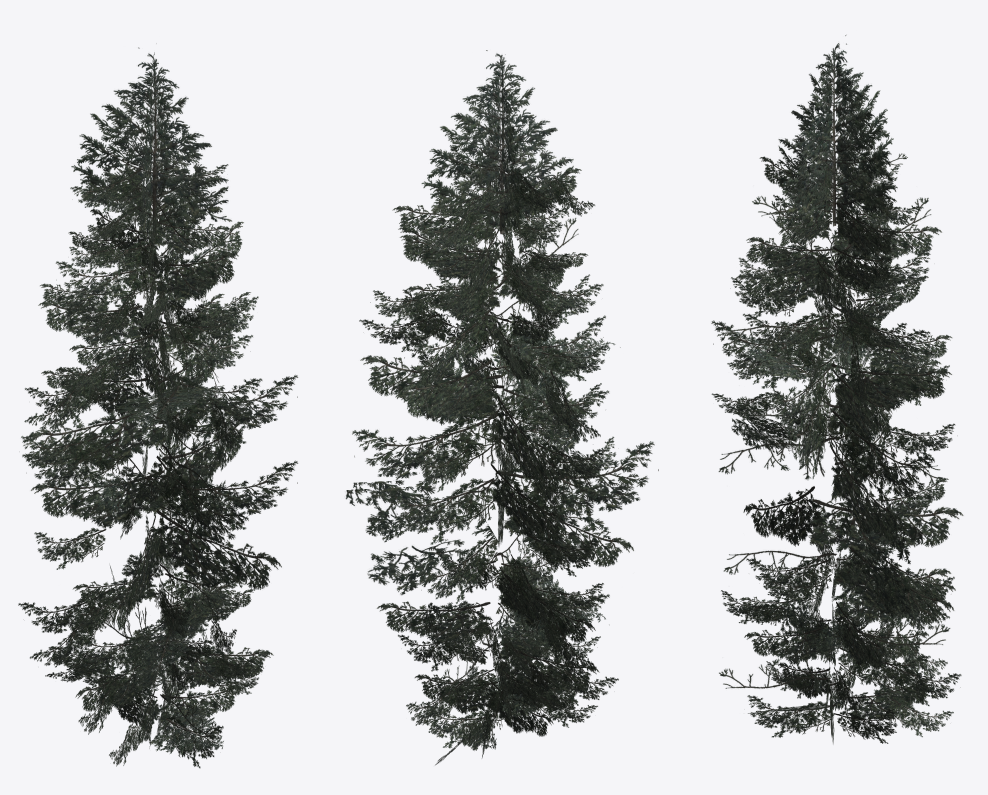
File: forest_pine_03.glb
3 renders of one model, left to right at view 1: azimuth 30°, elevation 25°; view 2: azimuth 150°, elevation 25°; view 3: azimuth 270°, elevation 25°, orthographic.
Parts seen in each view (by area): view 1: Tree_Branches_01_Tree_Branches_01_0; view 2: Tree_Branches_01_Tree_Branches_01_0; view 3: Tree_Branches_01_Tree_Branches_01_0.
Boxes of the visible parts, x1,y1,x2,y2 form: Tree_Branches_01_Tree_Branches_01_0: (18, 47, 297, 768); Tree_Branches_01_Tree_Branches_01_0: (345, 50, 658, 765); Tree_Branches_01_Tree_Branches_01_0: (711, 35, 963, 743).
Size of the model in its own units: 1.72 by 4.5 by 1.65.
1 material, 1 textured.
